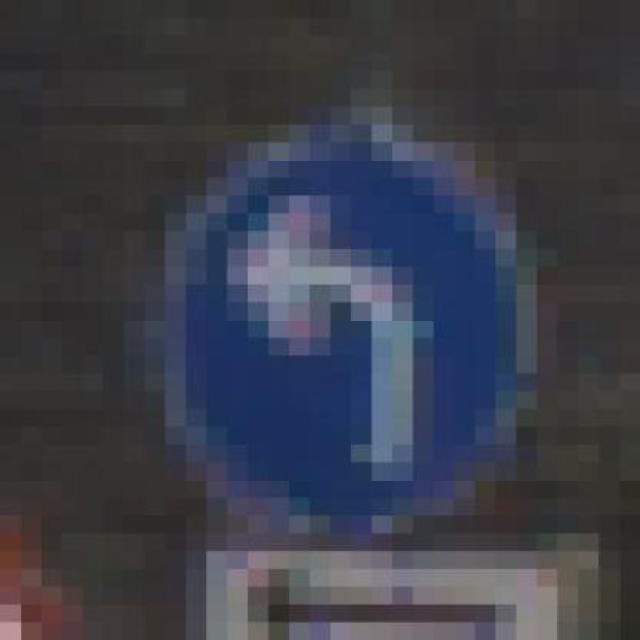Turn left ahead: (103, 89, 557, 533)
